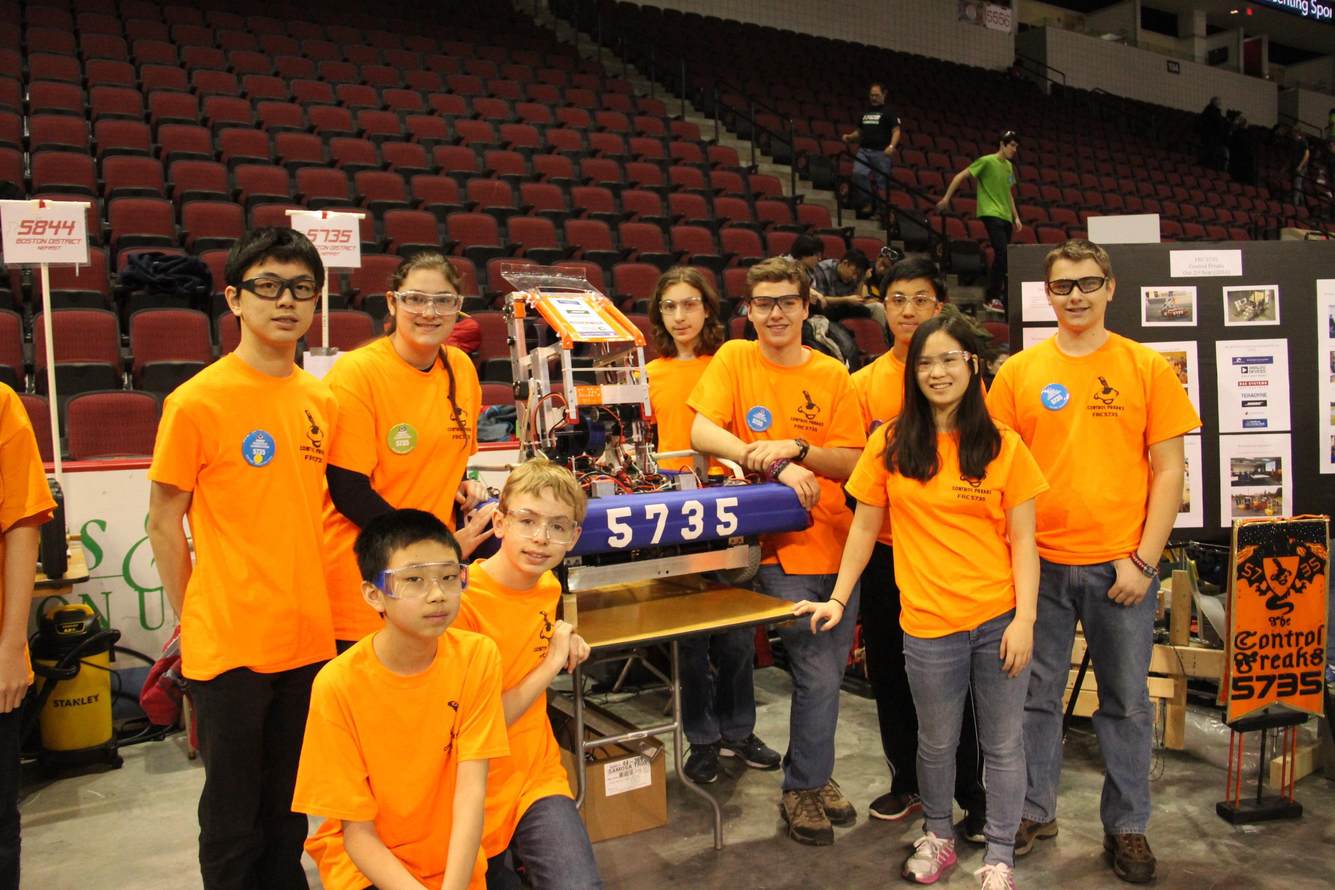robot: (465, 261, 818, 552)
